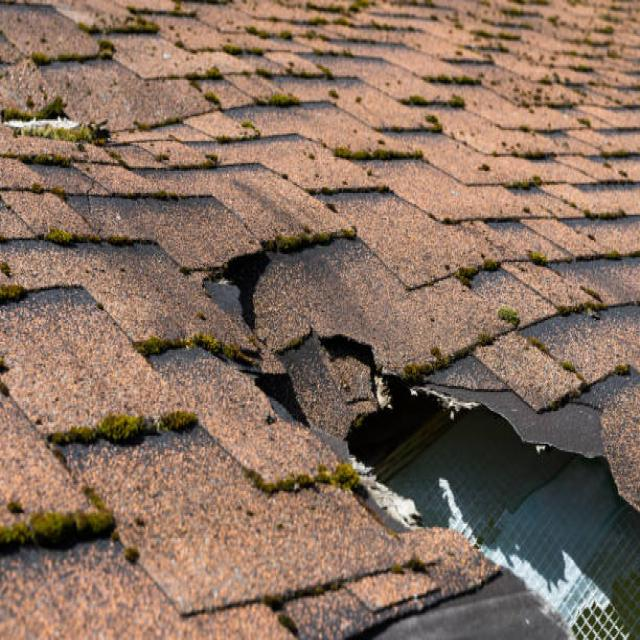damaged_roof: (255, 329, 640, 640)
